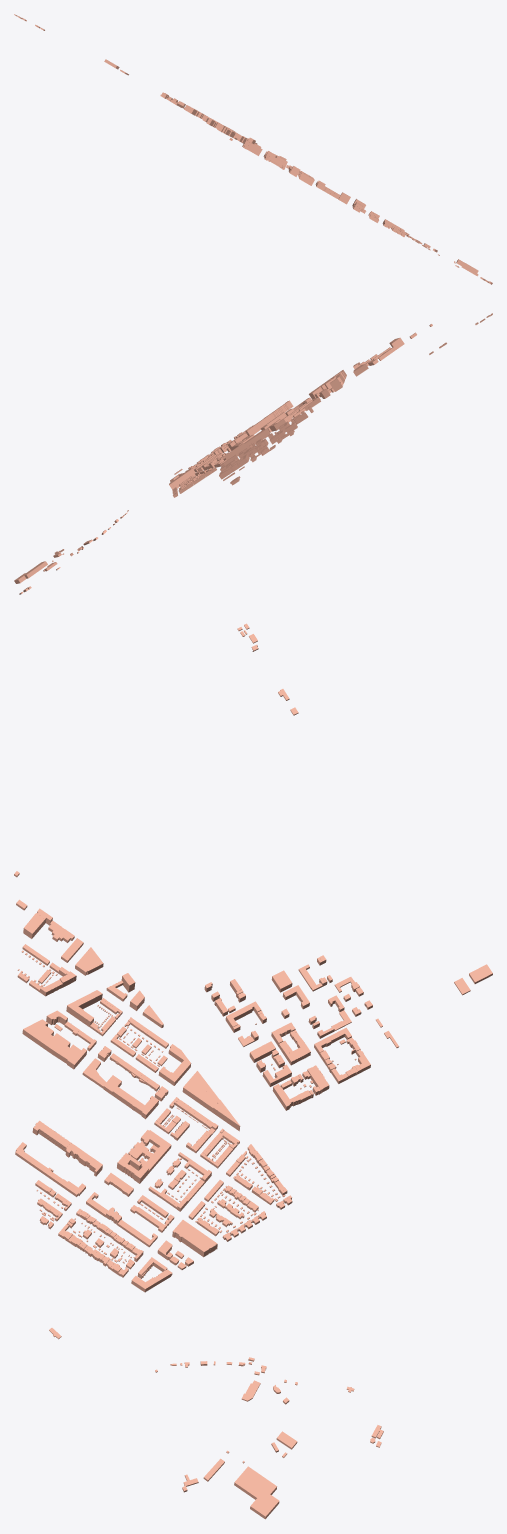
The picture shows the model from 3 angles, top to bottom: view 1: azimuth 30°, elevation 25°; view 2: azimuth 150°, elevation 25°; view 3: azimuth 270°, elevation 25°; orthographic projection. The views are drawn at different scales.
Bounding box in the file's own units: 1750 × 1346 × 1045.
